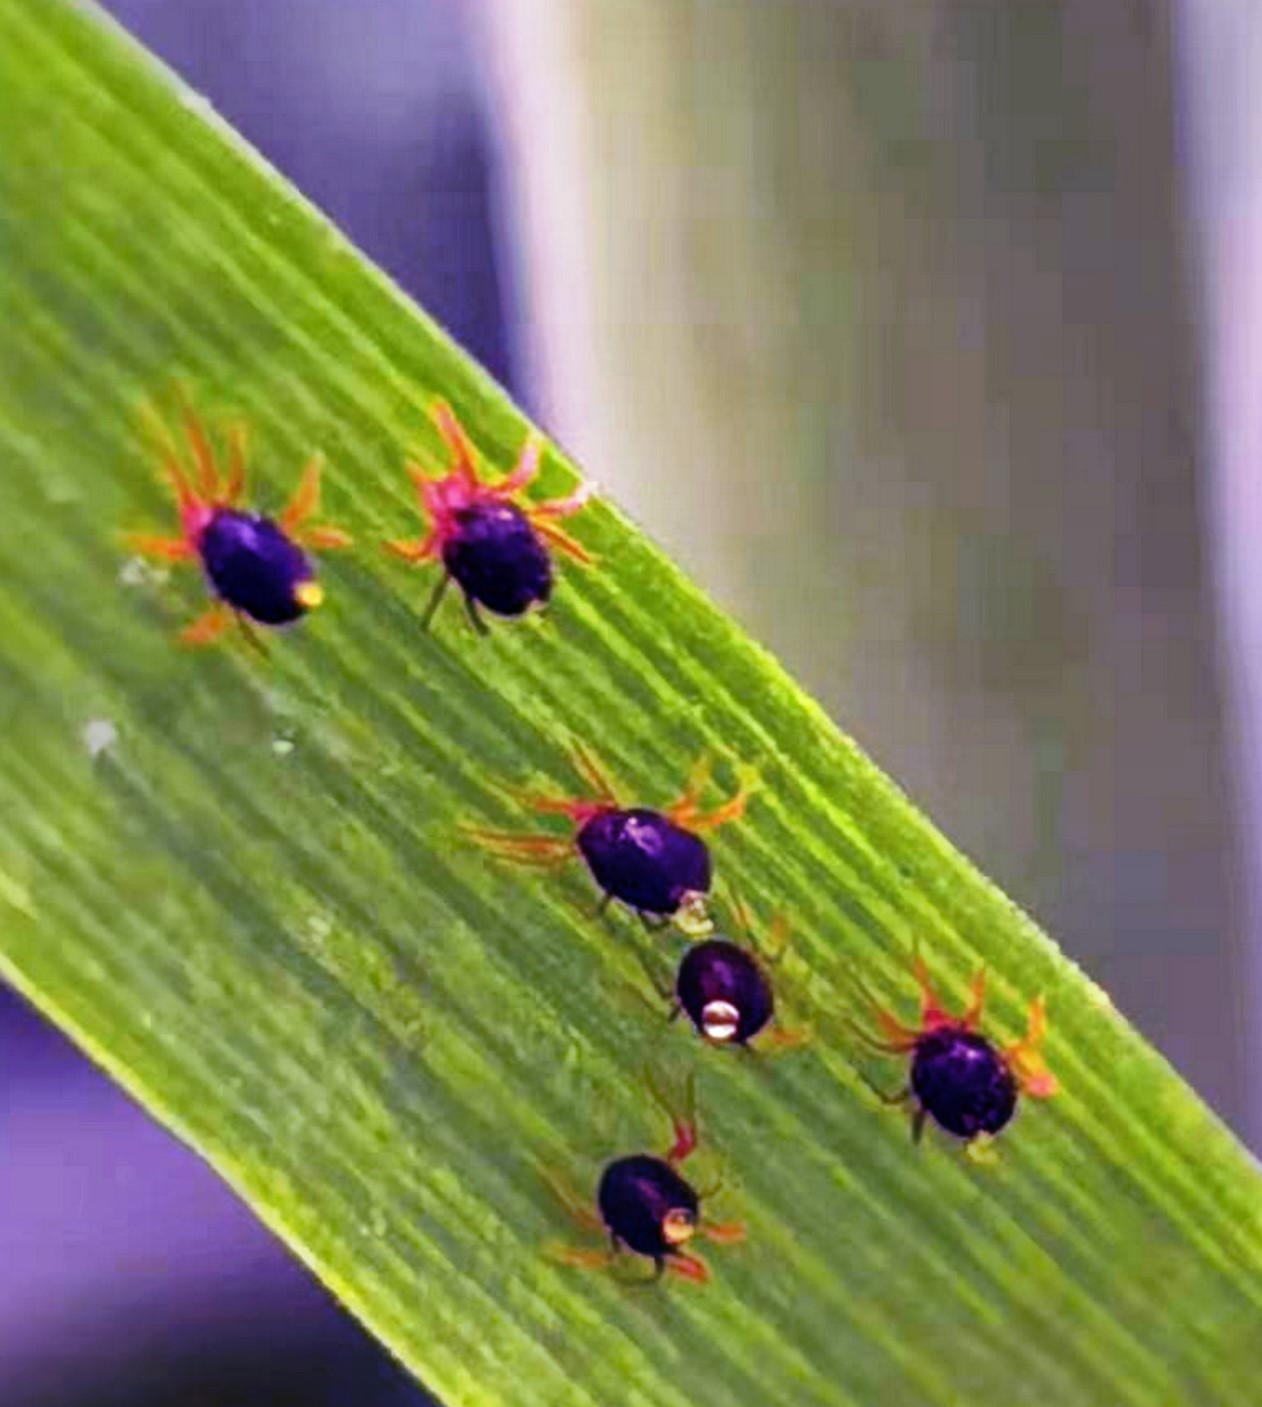Wheat Red Spider: (104, 384, 607, 671)
